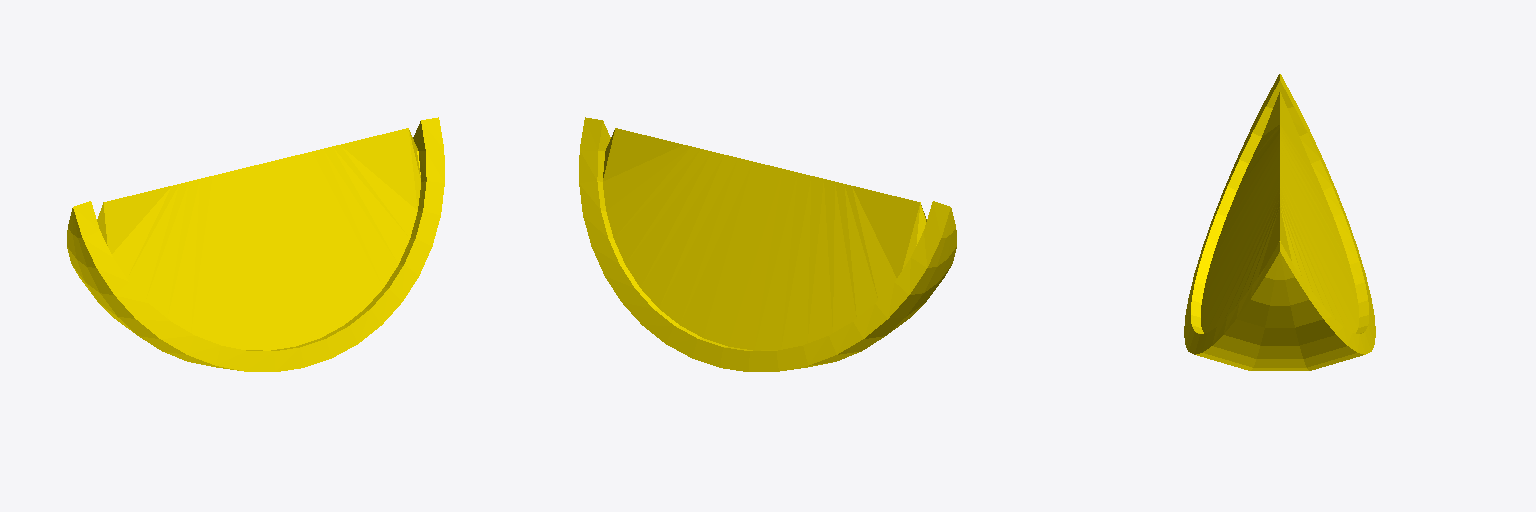
Rendered from lemonWedge.obj.
3 renders of one model, left to right at view 1: azimuth 30°, elevation 25°; view 2: azimuth 150°, elevation 25°; view 3: azimuth 270°, elevation 25°, orthographic.
Parts seen in each view (by area): view 1: lemonWedge1; view 2: lemonWedge1; view 3: lemonWedge1.
Boxes of the visible parts, x1,y1,x2,y2 form: lemonWedge1: [67, 117, 444, 371]; lemonWedge1: [579, 117, 956, 371]; lemonWedge1: [1184, 74, 1375, 370].
Size of the model in its own units: 0.4 by 0.199 by 0.1816.